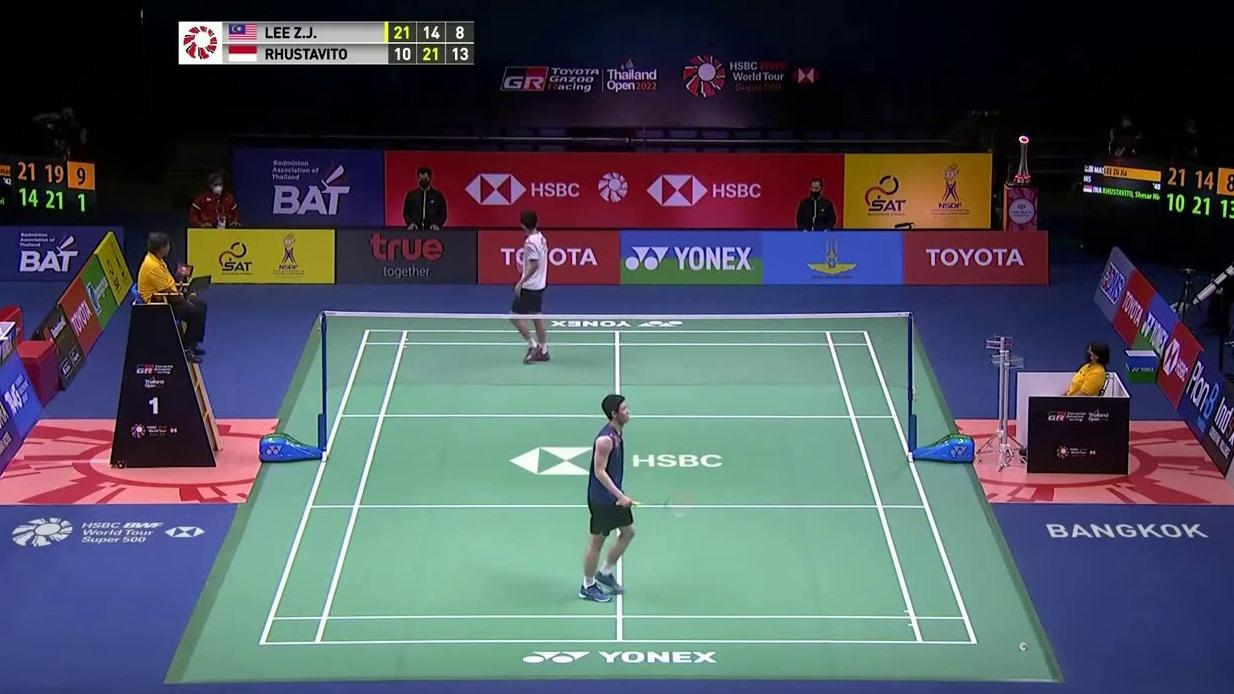racket: (617, 490, 695, 519), (515, 254, 528, 275)
shuttle: (1019, 641, 1028, 652)
